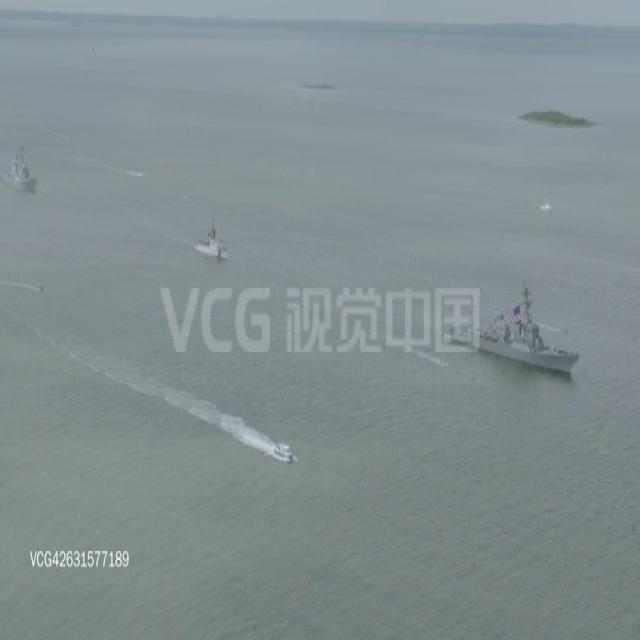houseboat: (272, 439, 295, 462), (34, 282, 47, 294), (538, 201, 552, 211)
navalvessels: (446, 281, 578, 376), (0, 143, 35, 193), (190, 217, 227, 260)
